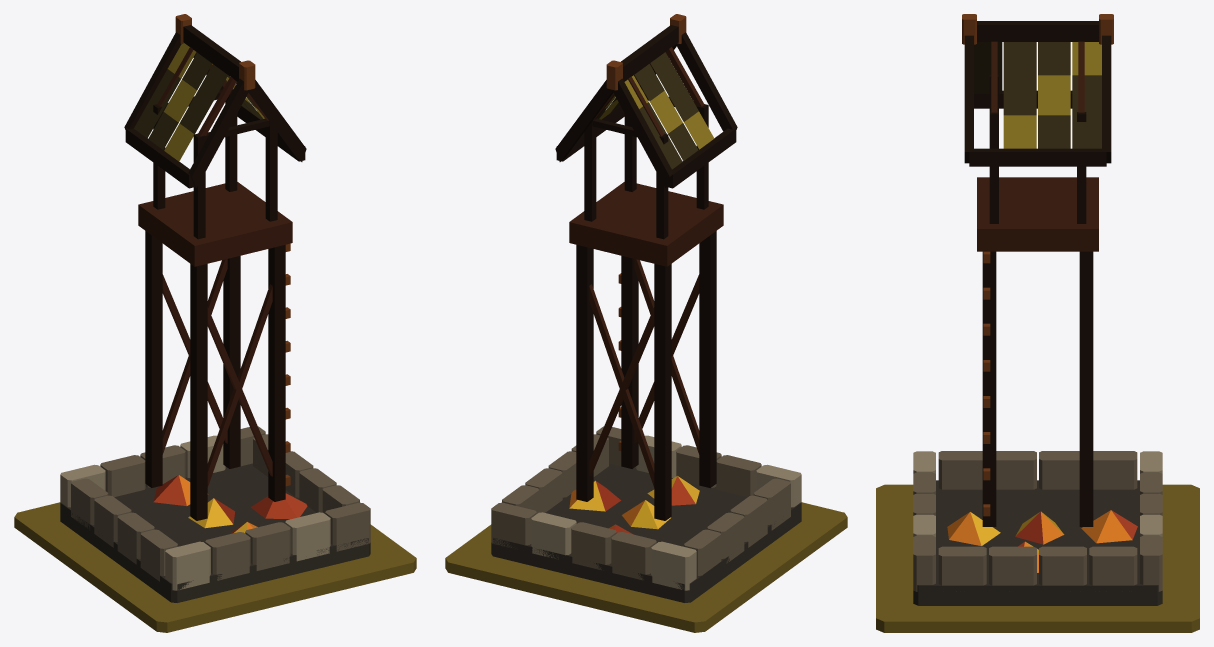
File: tower_t1.glb
3 renders of one model, left to right at view 1: azimuth 30°, elevation 25°; view 2: azimuth 150°, elevation 25°; view 3: azimuth 270°, elevation 25°, orthographic. The views are drawn at different scales.
Parts seen in each view (by area): view 1: MMR | tower | T01 Architecture.001, MMR | tower | Tier 01 Ground.001, MMR | tower | T01 Roof Supports.001, MMR | tower | T01 Autumn Dressing.001; view 2: MMR | tower | T01 Architecture.001, MMR | tower | Tier 01 Ground.001, MMR | tower | T01 Roof Supports.001, MMR | tower | T01 Autumn Dressing.001; view 3: MMR | tower | T01 Architecture.001, MMR | tower | Tier 01 Ground.001, MMR | tower | T01 Autumn Dressing.001, MMR | tower | T01 Roof Supports.001.
Boxes of the visible parts, box(x1,y1,x2,y2) form: MMR | tower | T01 Architecture.001: box(60, 14, 370, 602); MMR | tower | Tier 01 Ground.001: box(14, 502, 416, 632); MMR | tower | T01 Roof Supports.001: box(153, 47, 277, 239); MMR | tower | T01 Autumn Dressing.001: box(153, 475, 307, 533); MMR | tower | T01 Architecture.001: box(491, 14, 801, 602); MMR | tower | Tier 01 Ground.001: box(445, 502, 847, 632); MMR | tower | T01 Roof Supports.001: box(584, 47, 708, 239); MMR | tower | T01 Autumn Dressing.001: box(569, 476, 699, 534); MMR | tower | T01 Architecture.001: box(913, 14, 1162, 605); MMR | tower | Tier 01 Ground.001: box(876, 484, 1199, 632); MMR | tower | T01 Autumn Dressing.001: box(947, 510, 1137, 572); MMR | tower | T01 Roof Supports.001: box(989, 41, 1086, 223).
Size of the model in its own units: 1.3 by 2.43 by 1.3.
Materials: 1 (1 with a texture image).
